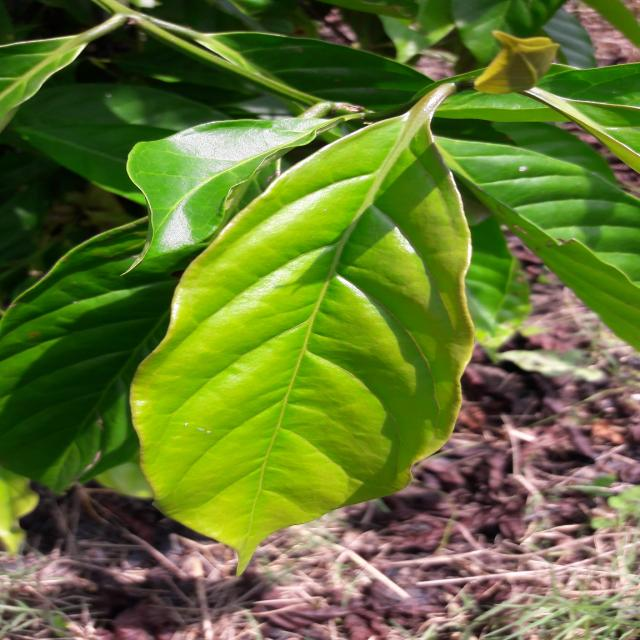Sanas: (127, 78, 478, 577)
